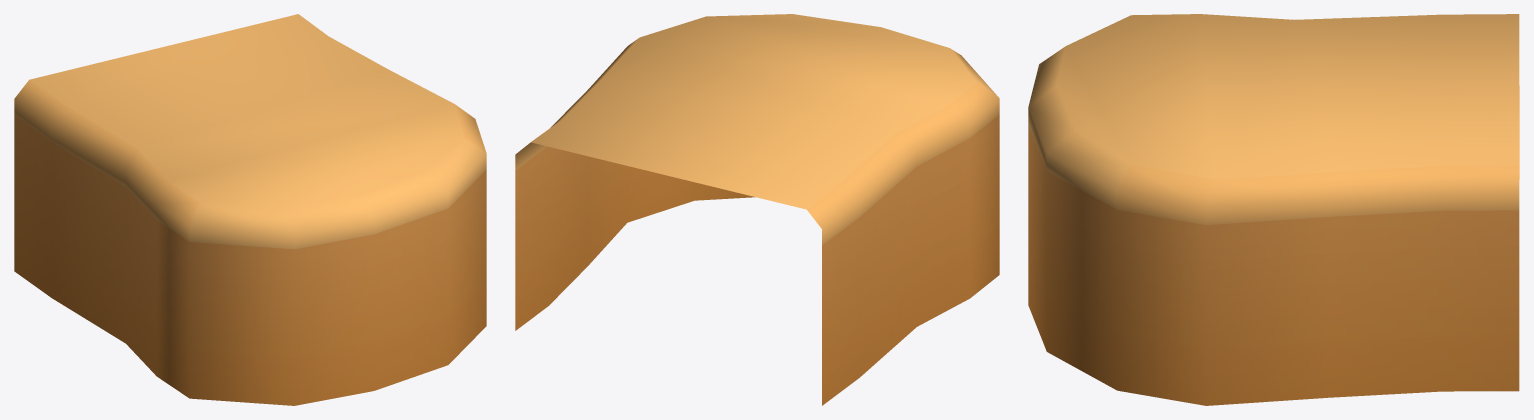
File: End 01.FBX
3 views of the same model, side by side, from view 1: azimuth 30°, elevation 25°; view 2: azimuth 150°, elevation 25°; view 3: azimuth 270°, elevation 25° (orthographic). The views are drawn at different scales.
Visible parts, largest first — view 1: End 01; view 2: End 01; view 3: End 01.
Boxes of the visible parts, <box> form: End 01: <box>14,14,486,405</box>; End 01: <box>515,14,999,405</box>; End 01: <box>1028,14,1519,405</box>.
Size of the model in its own units: 545 by 300 by 616.
Materials: 1 (1 with a texture image).
